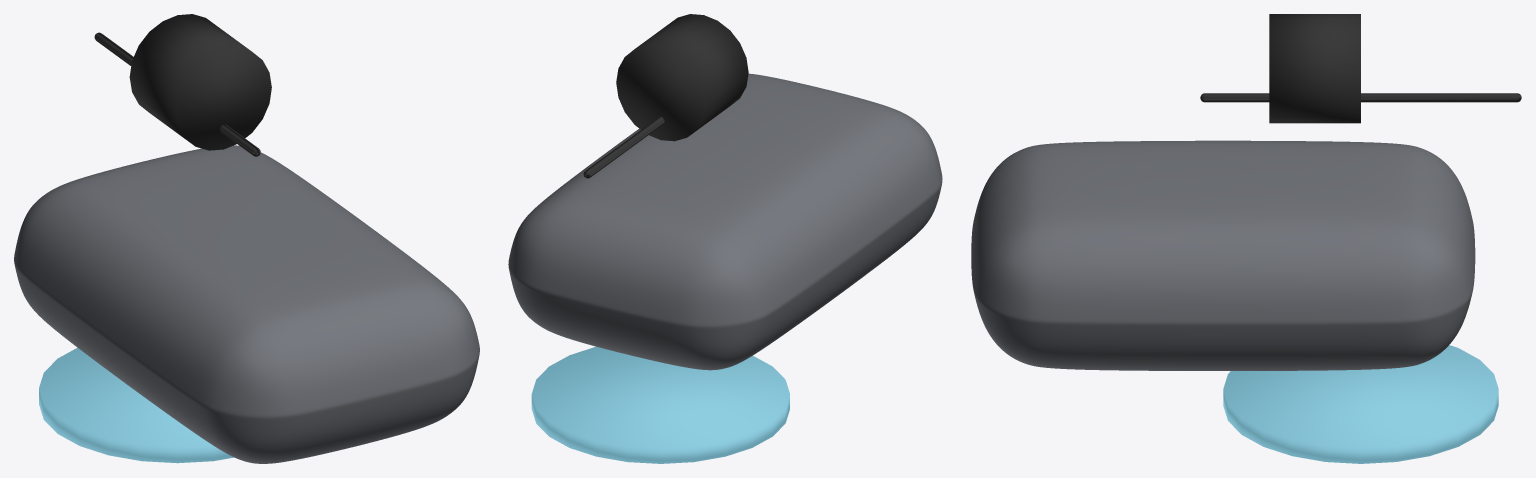
File: mouse.glb
The picture shows the model from 3 angles, left to right: view 1: azimuth 30°, elevation 25°; view 2: azimuth 150°, elevation 25°; view 3: azimuth 270°, elevation 25°; orthographic projection. The views are drawn at different scales.
Visible parts, largest first — view 1: Mouse; view 2: Mouse; view 3: Mouse.
Part boxes in pixels (x1,y1,x2,y2): Mouse: (14, 14, 479, 463); Mouse: (508, 14, 942, 463); Mouse: (971, 14, 1521, 463).
Bounding box in the file's own units: 0.0698 × 0.093 × 0.1199.
